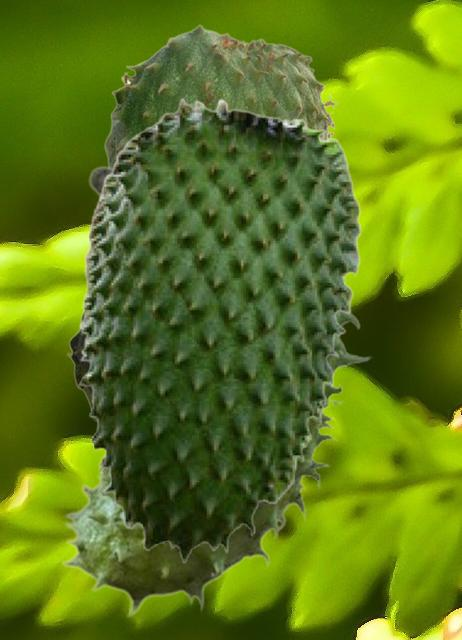guyabano: (59, 165, 371, 617), (78, 97, 361, 562), (66, 23, 337, 423)
